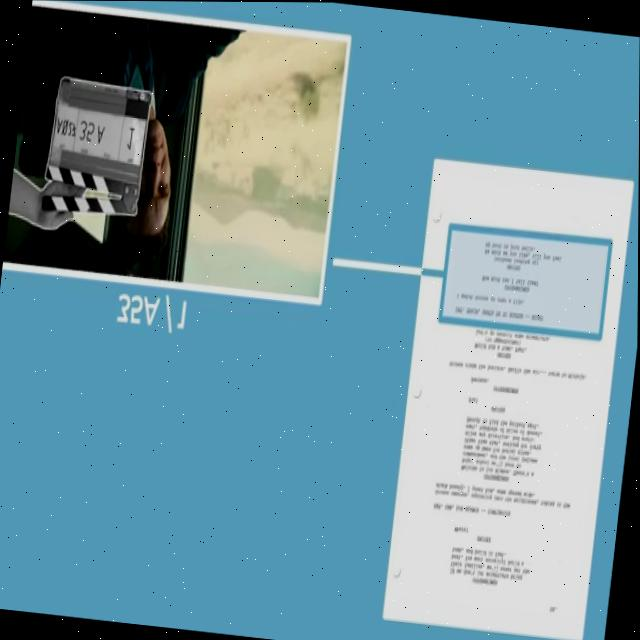Clapperboard: (40, 72, 154, 224)
